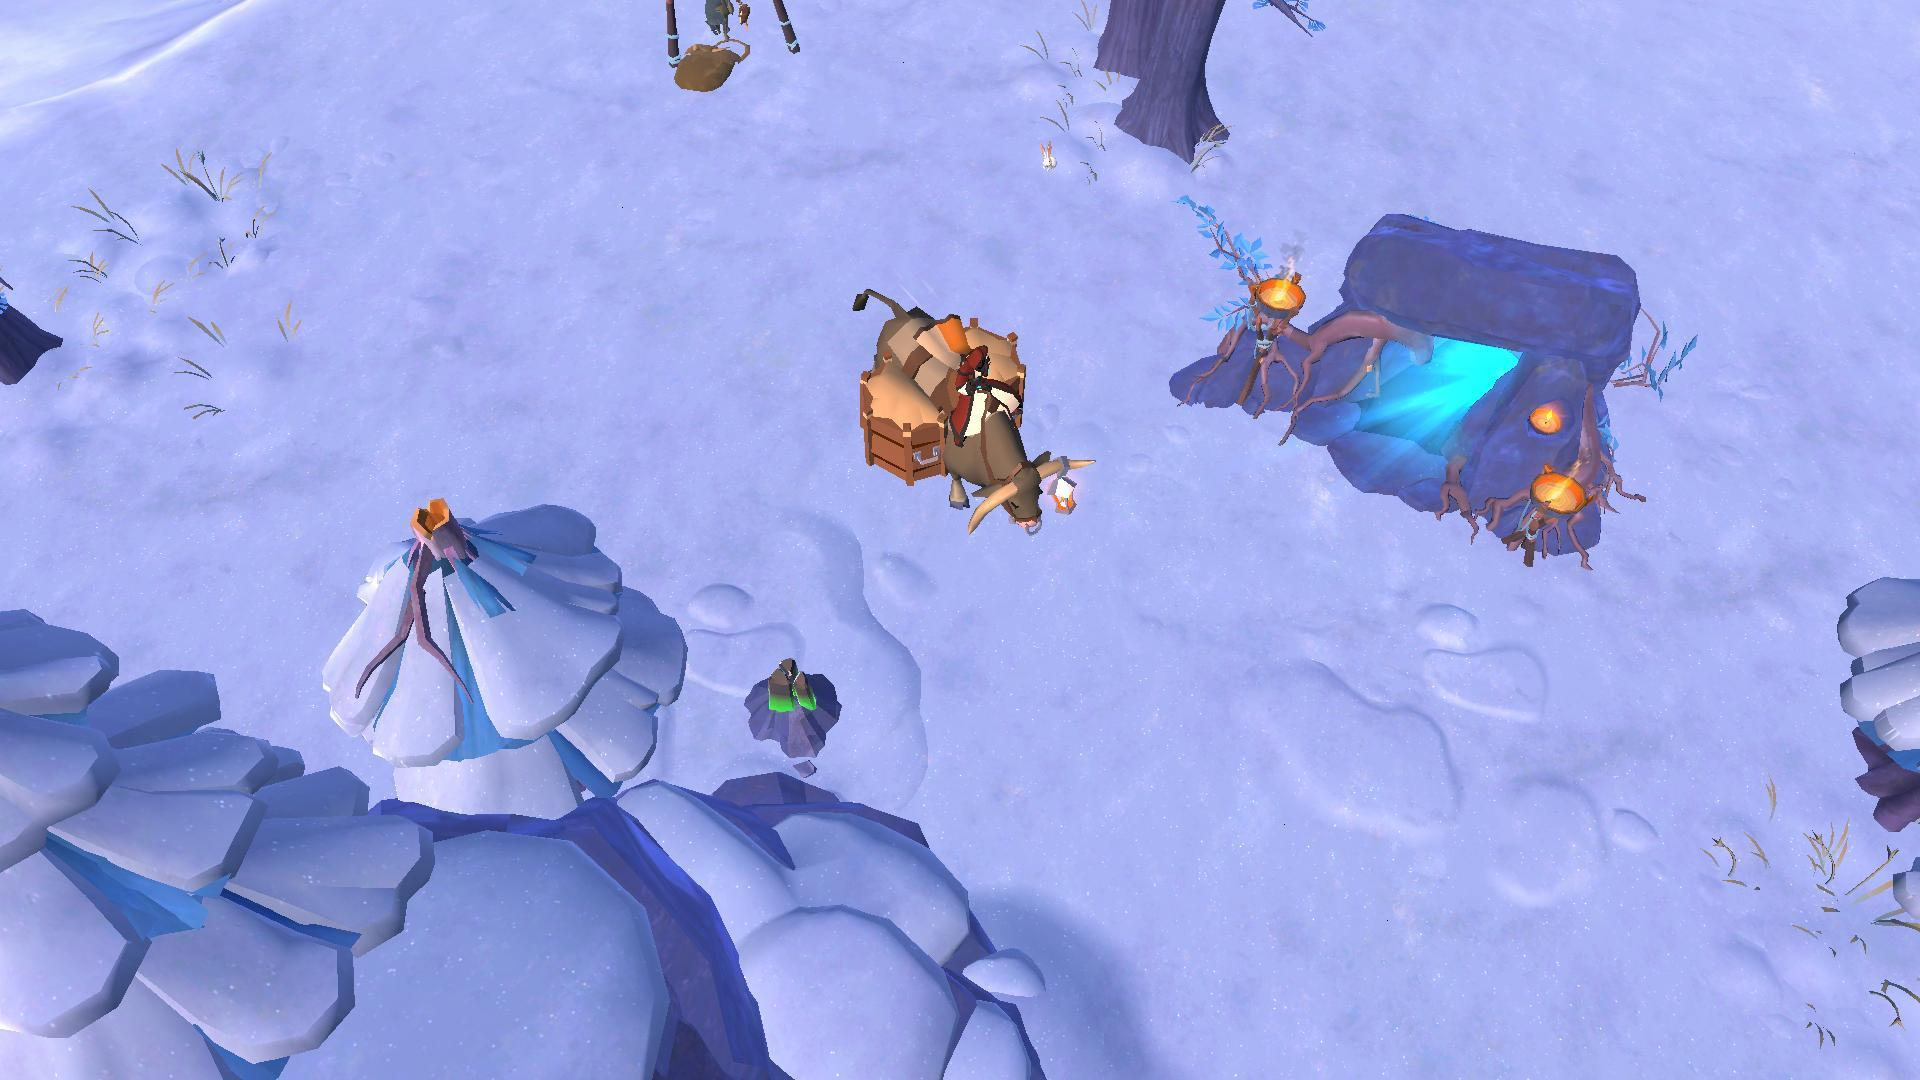ore_t3: (762, 650, 814, 721)
